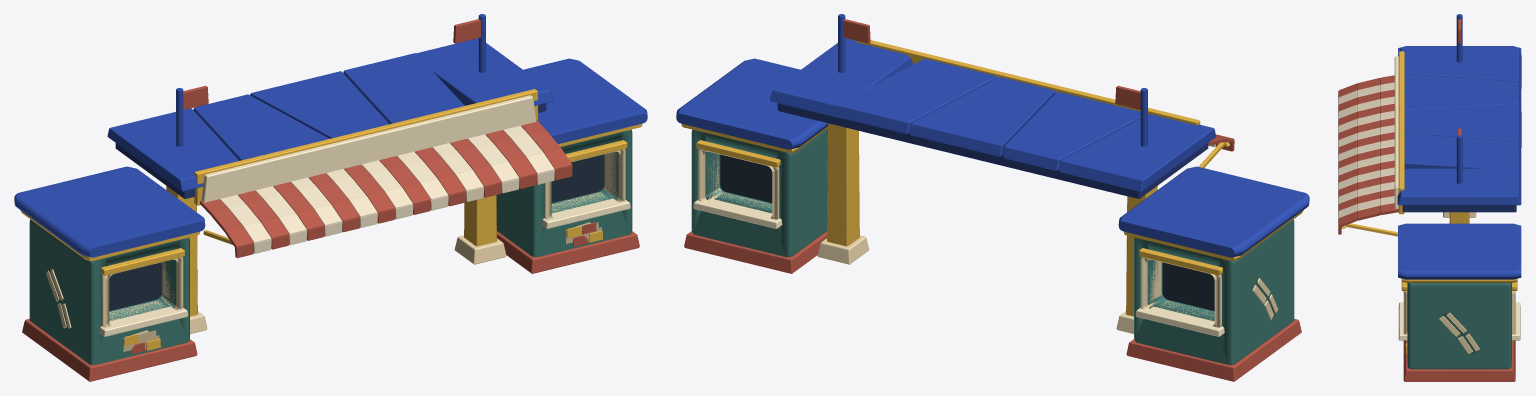
The model's file is entry.glb.
3 views of the same model, side by side, from view 1: azimuth 30°, elevation 25°; view 2: azimuth 150°, elevation 25°; view 3: azimuth 270°, elevation 25° (orthographic). The views are drawn at different scales.
Parts seen in each view (by area): view 1: entry; view 2: entry; view 3: entry.
Boxes of the visible parts, x1=… form: entry: x1=14, y1=14, x2=647, y2=381; entry: x1=676, y1=14, x2=1309, y2=381; entry: x1=1338, y1=14, x2=1521, y2=381.
Bounding box in the file's own units: 12.82 × 5.15 × 4.37.
